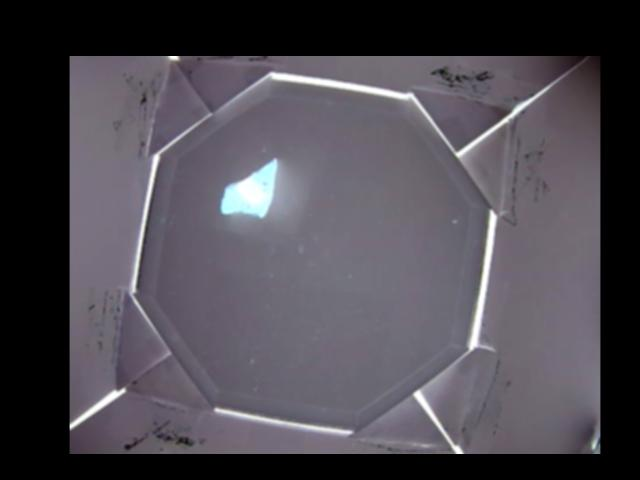Brisk: (221, 157, 277, 217)
